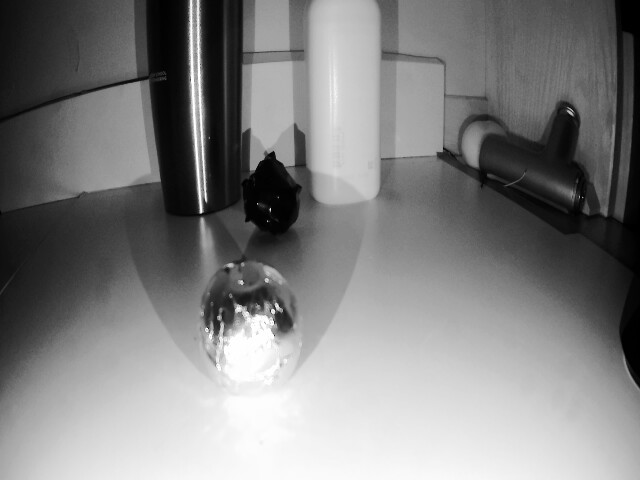black: (246, 153, 305, 240)
silver: (203, 262, 304, 401)
